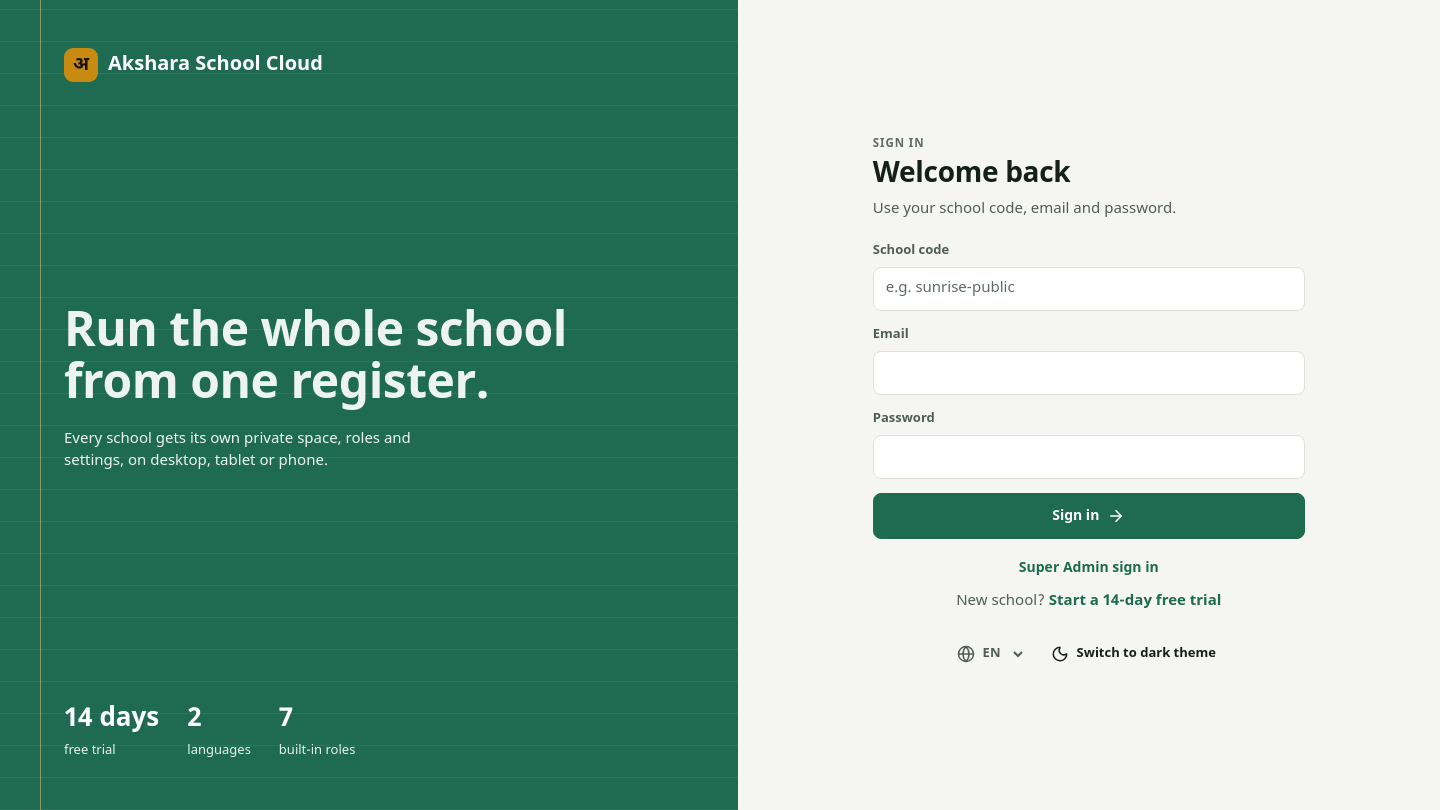
Scenario: LoginView › shows the generic message on 401
Type "sunrise-public" into the field labelled "School code". click: (1089, 289)
box: [873,267,1305,311]
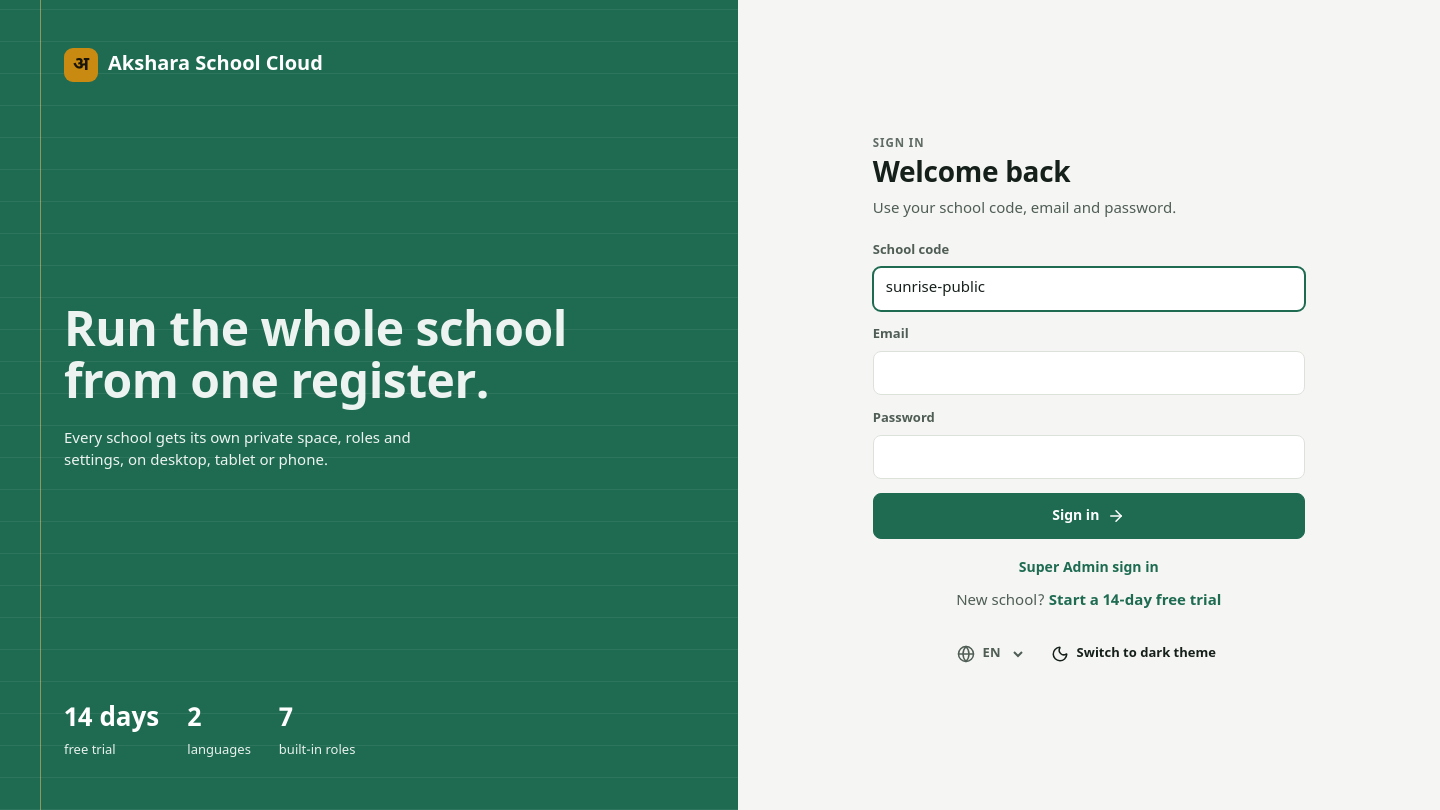
Type "fatima@school.edu" into the field labelled "Email". click: (1089, 373)
box: [873,351,1305,395]
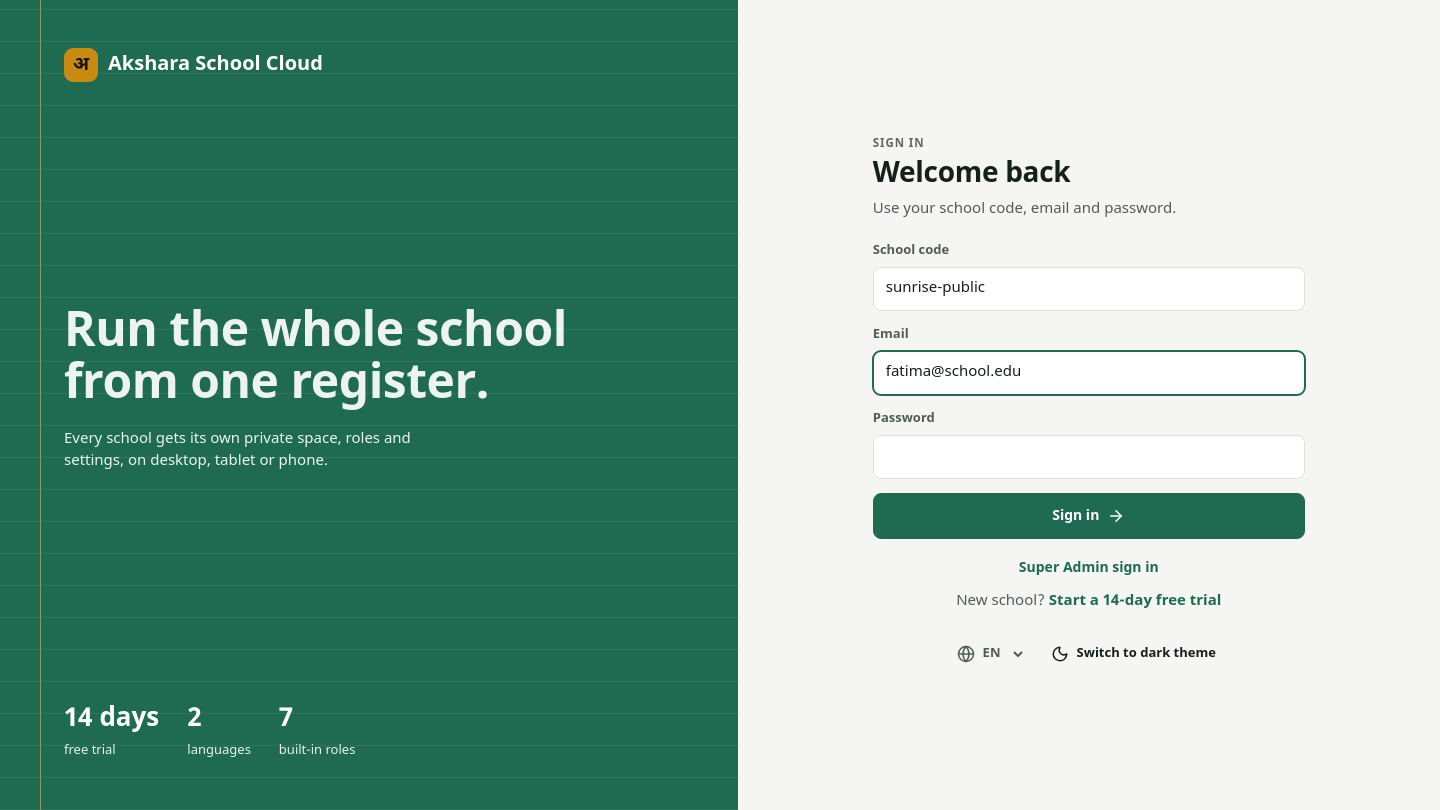
Type "wrong-password" into the password field labelled "Password". click: (1089, 457)
box: [873,435,1305,479]
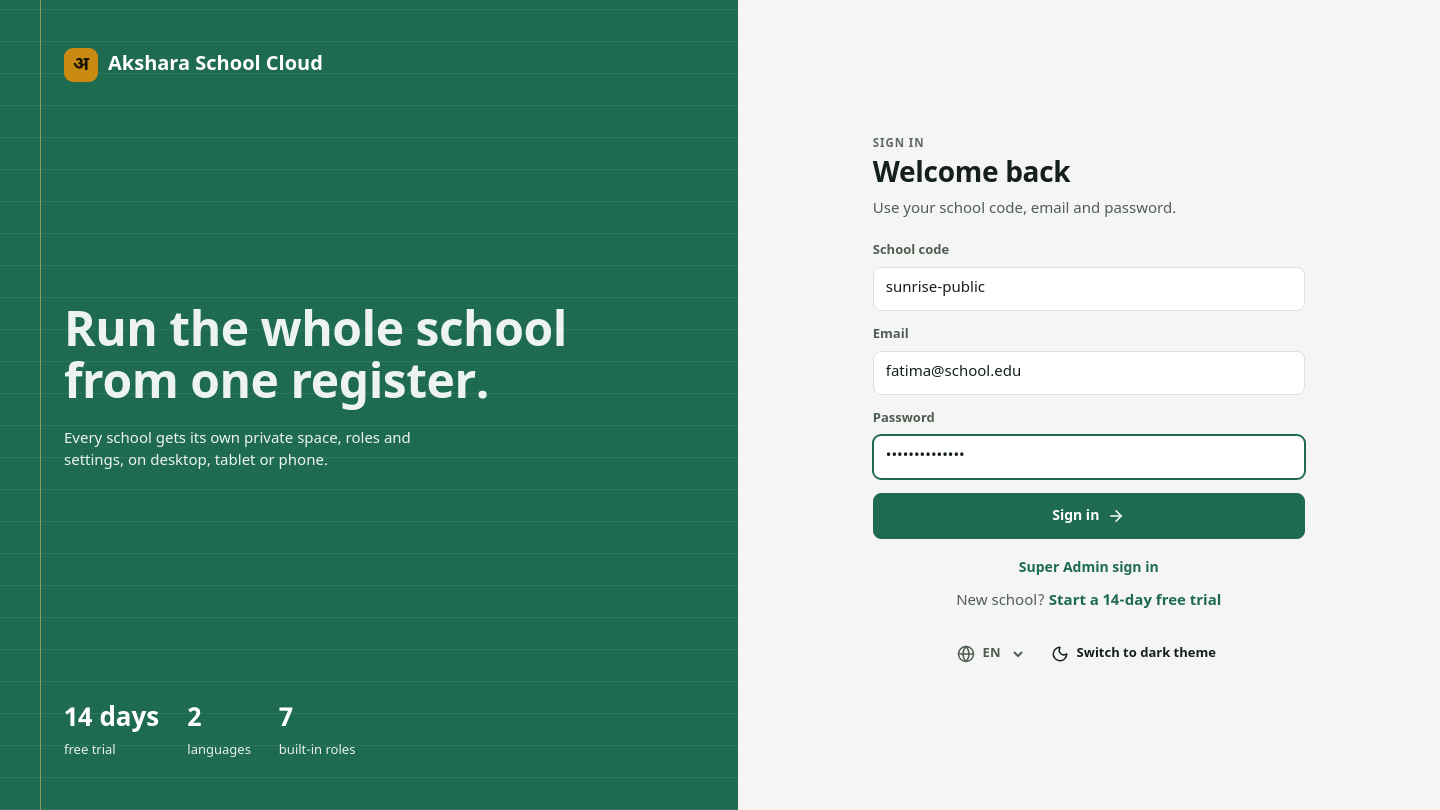
Click the button "Sign in". click: click(1089, 516)
box: [873,493,1305,539]
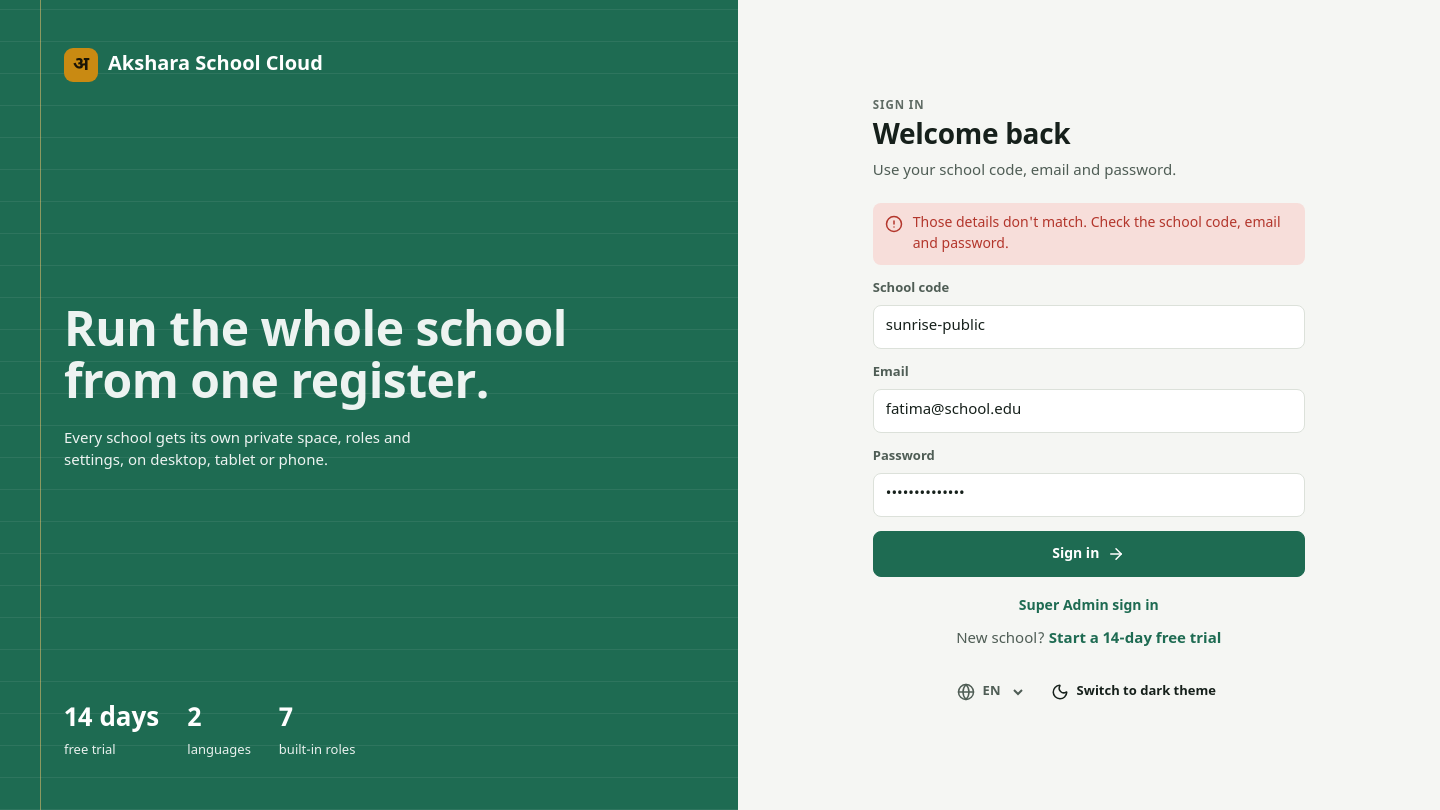
Expected: the message reads "Those details don't match. Check the school code, email and password.", [913,214,1281,254]
